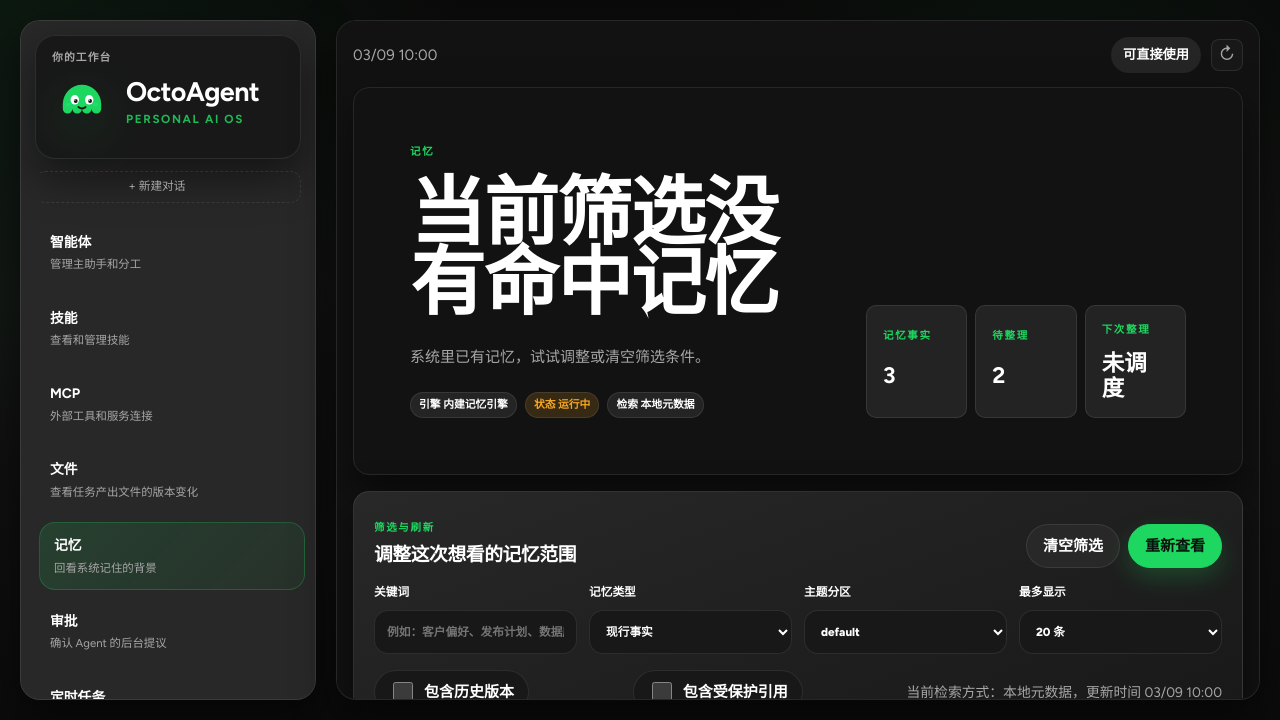
Test: App workbench routing › Memory 页面会按当前筛选条件提交查询并展示可读摘要
The image size is (1280, 720).
Expected: the heading "当前筛选没有命中记忆" is shown, [410,168,778,328]
Select "现行事实" in the dropdown labelled "记忆类型" at (690, 632), box [589,610,792,654]
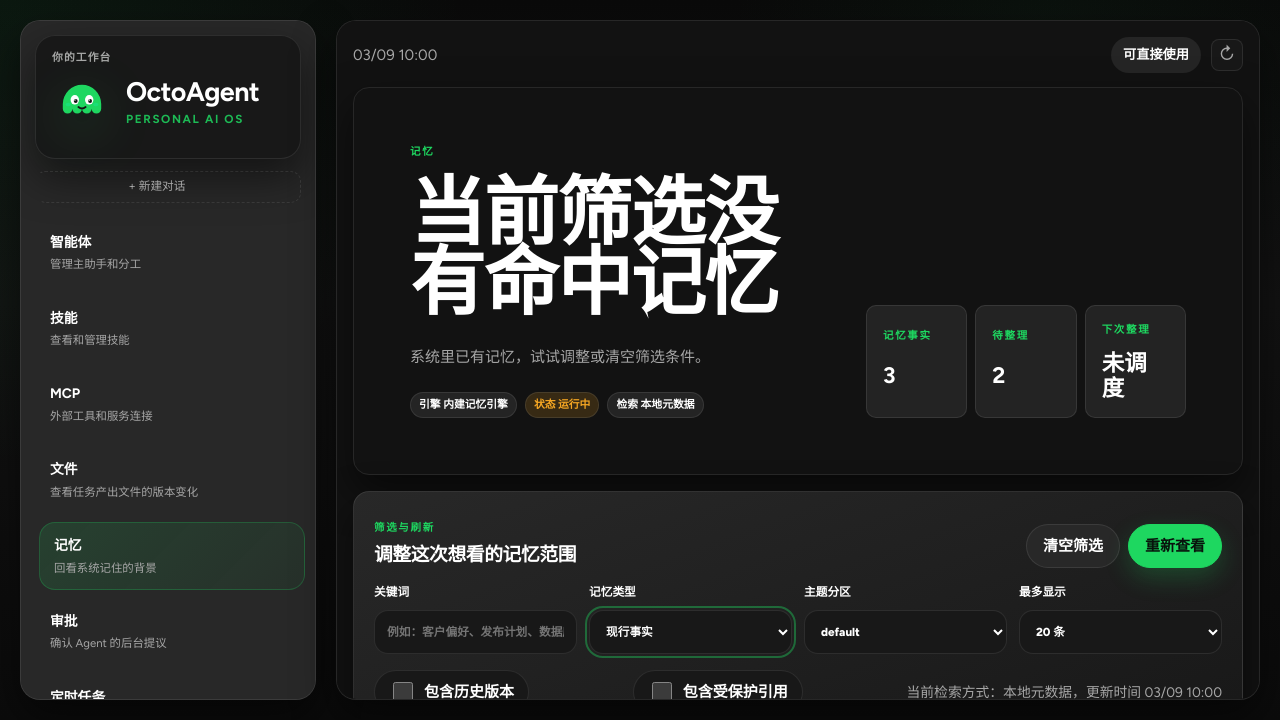
Select "联系人" in the dropdown labelled "主题分区" at (906, 632), box [804,610,1007,654]
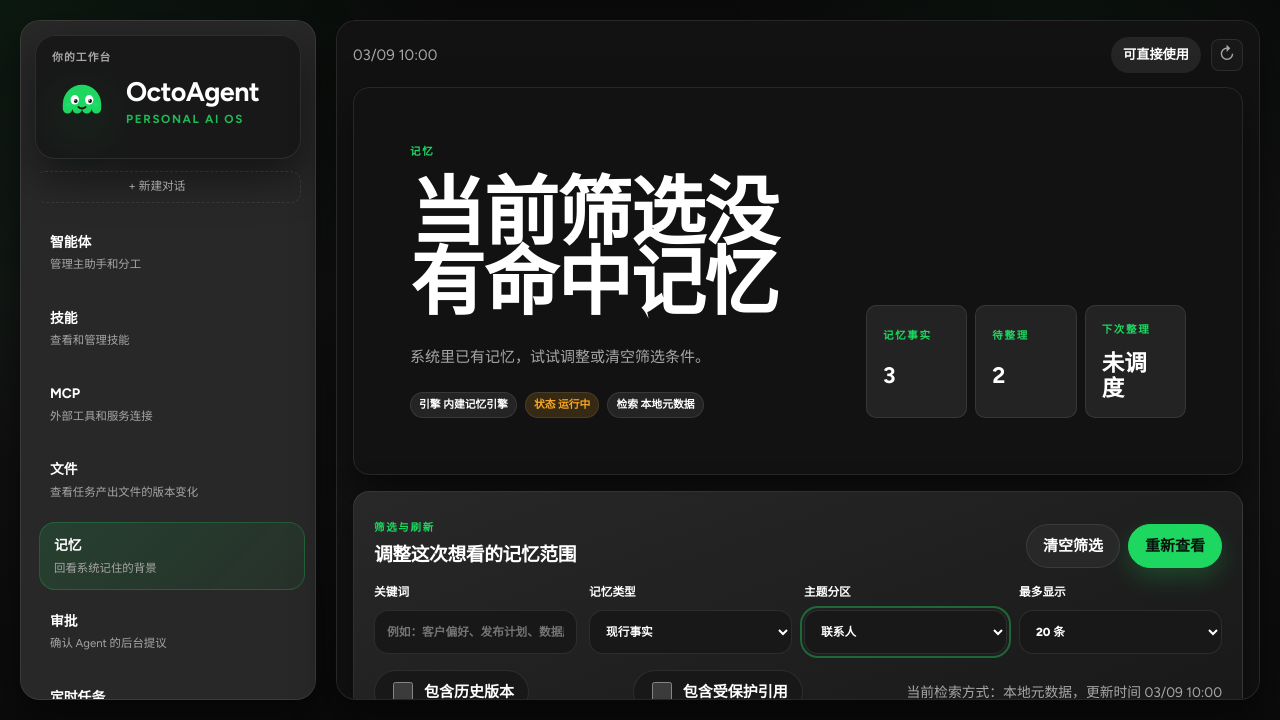
Select "50 条" in the dropdown labelled "最多显示" at (1120, 632), box [1019,610,1222,654]
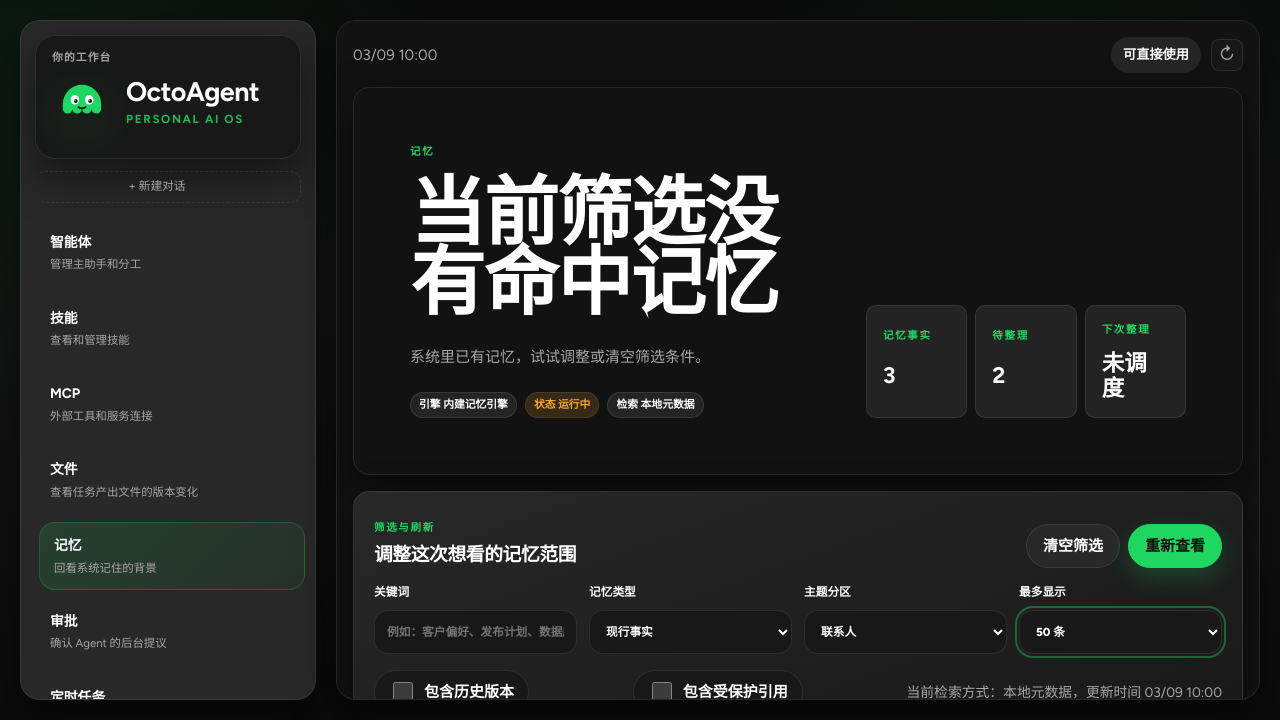
Type "Alice" into the field labelled "关键词" at (476, 632), box [374,610,577,654]
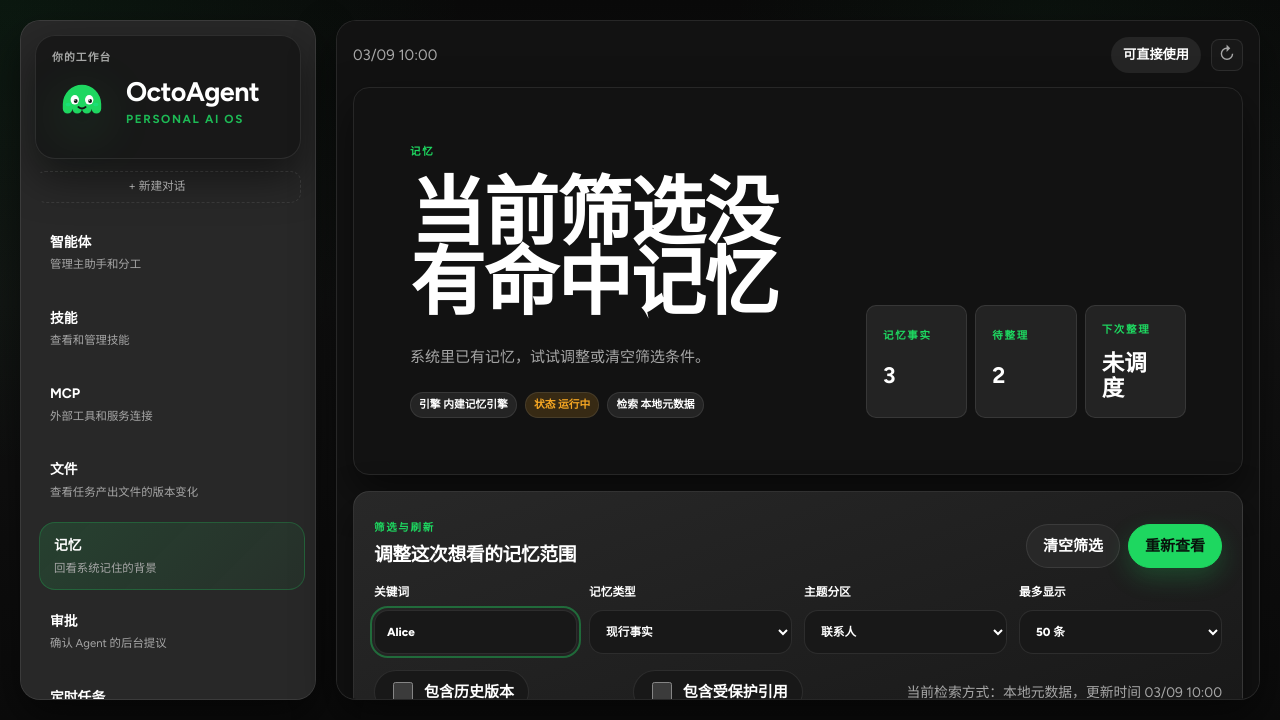
Click the checkbox labelled "包含历史版本" at (403, 692), box [393,682,413,702]
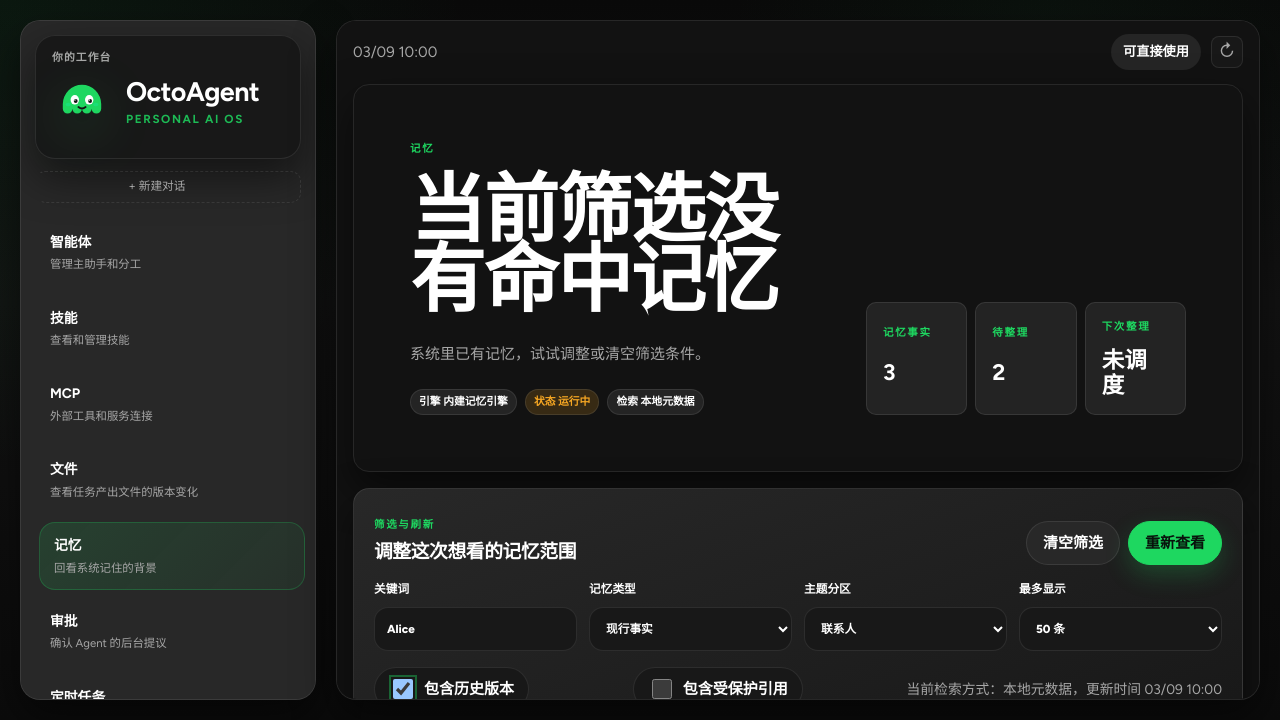
Click the button "重新查看" at (1175, 543), box [1128,521,1222,565]
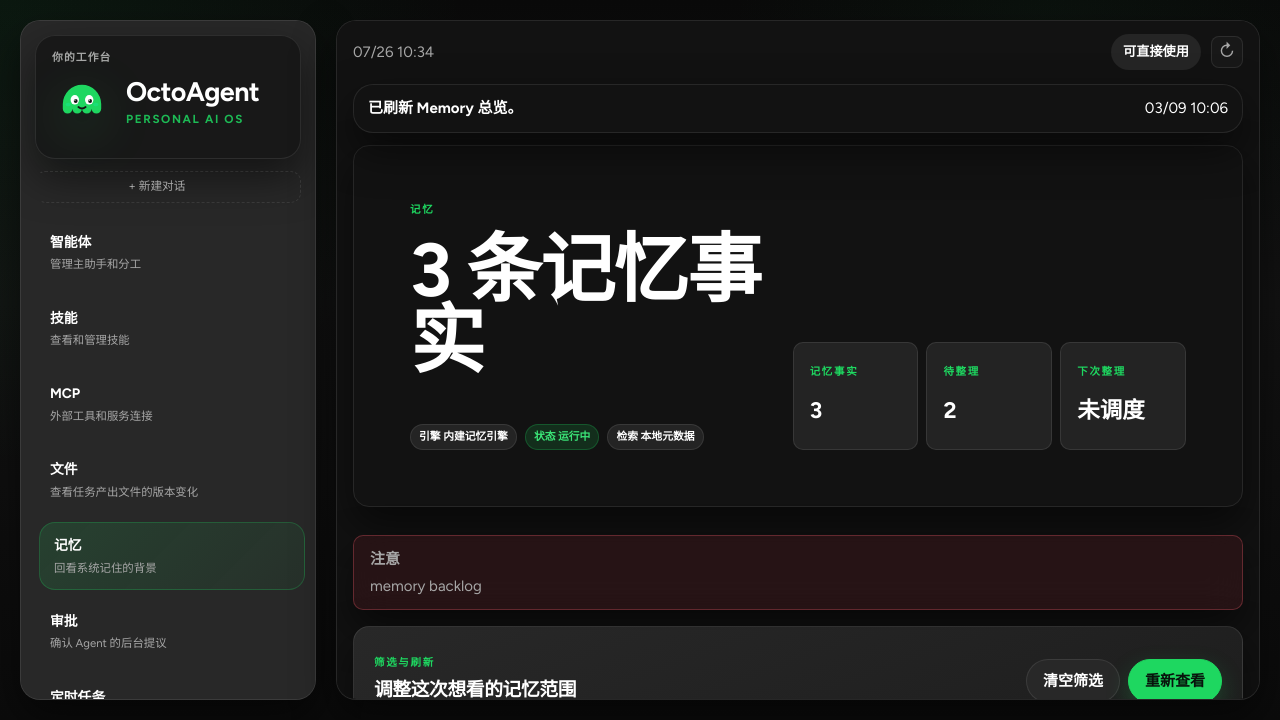
Result: the text "注意" is shown at [370,550,400,568]
